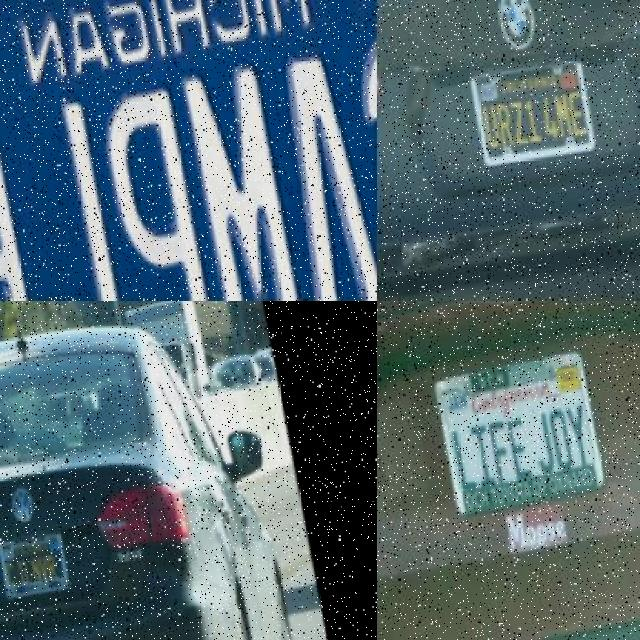licenseplate: (0, 0, 377, 300), (428, 338, 621, 524), (465, 36, 607, 176), (1, 522, 81, 600)
